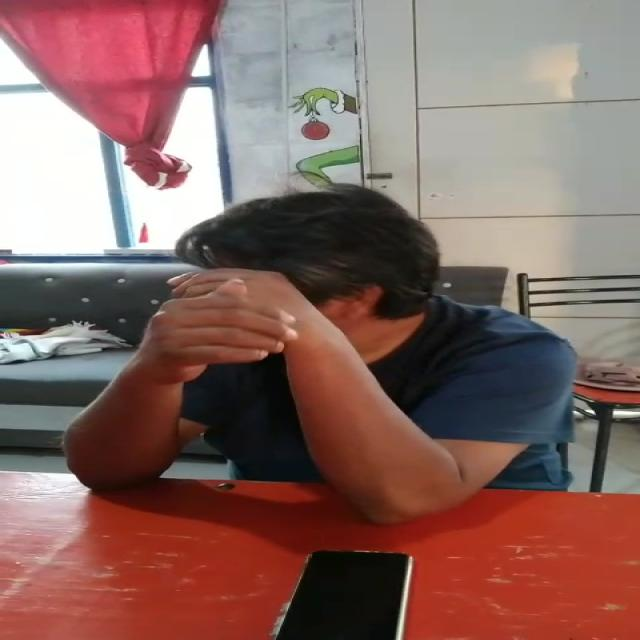7_mano_rostro: (205, 267, 354, 397)
